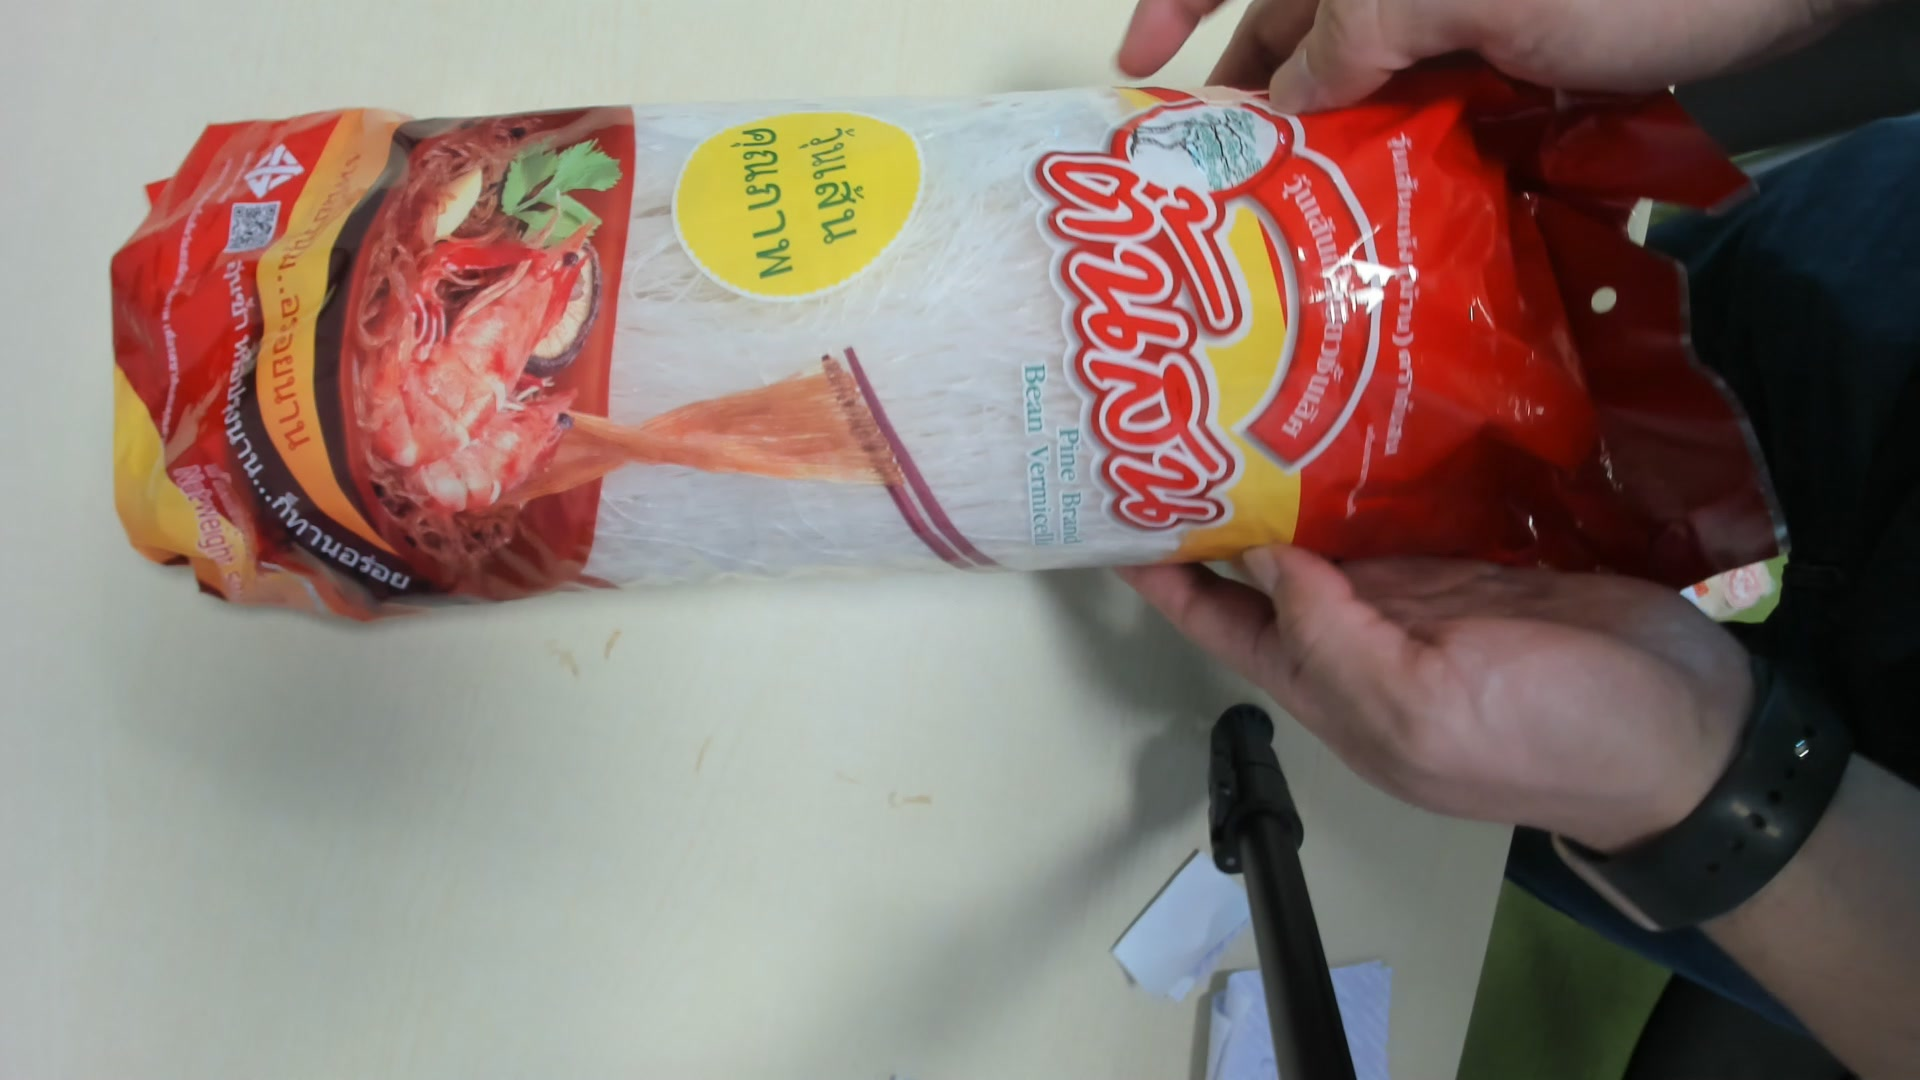BeeHoonVermicelli_500-599g_Halal_NonHealthy: (108, 70, 1774, 607)
